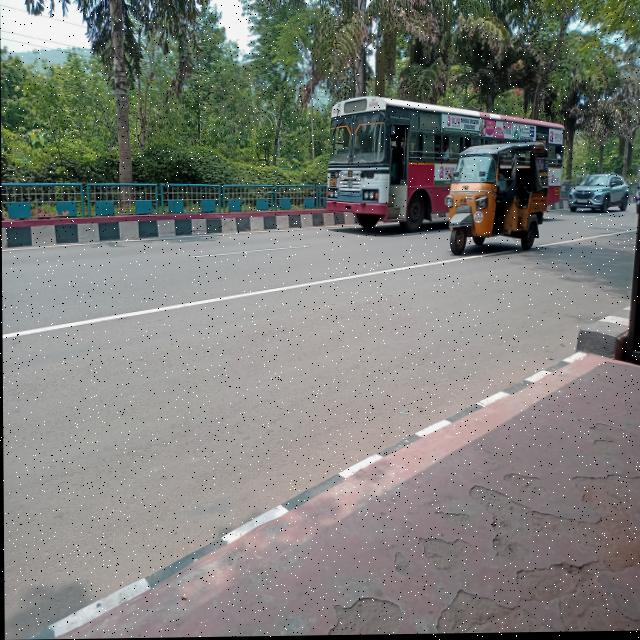bus: (325, 92, 449, 235)
car: (571, 167, 630, 222)
